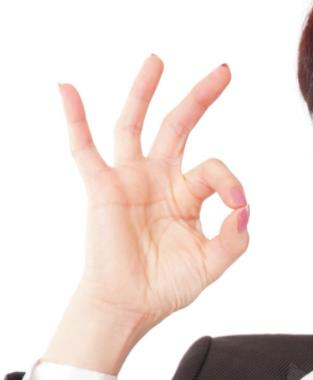left: (55, 49, 254, 320)
